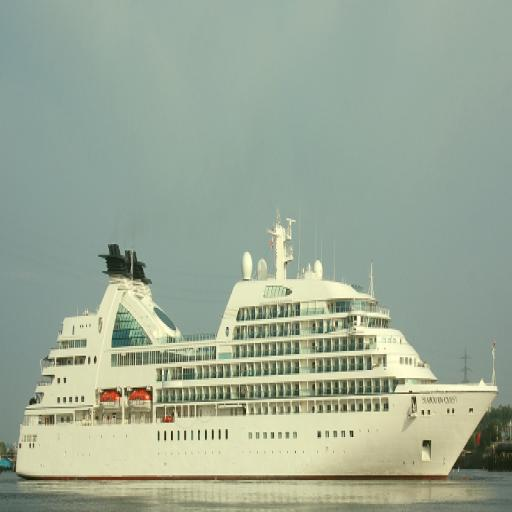cruises: (13, 205, 502, 491)
